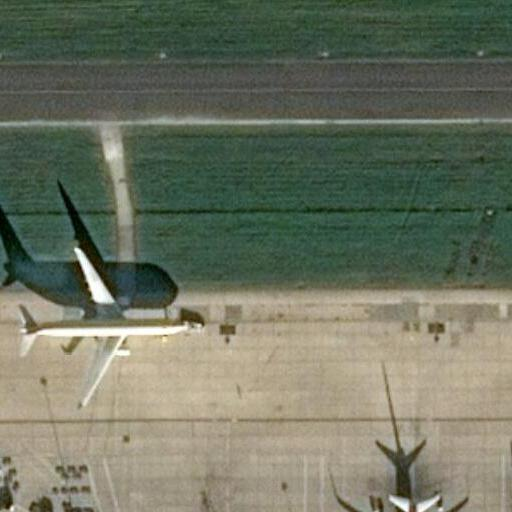Aircraft: (10, 242, 197, 407), (342, 486, 478, 512)
